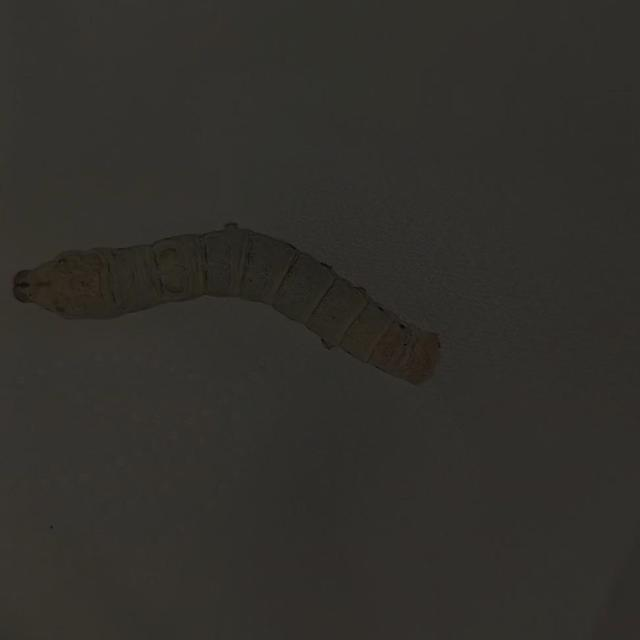Healthy: (4, 198, 462, 420)
